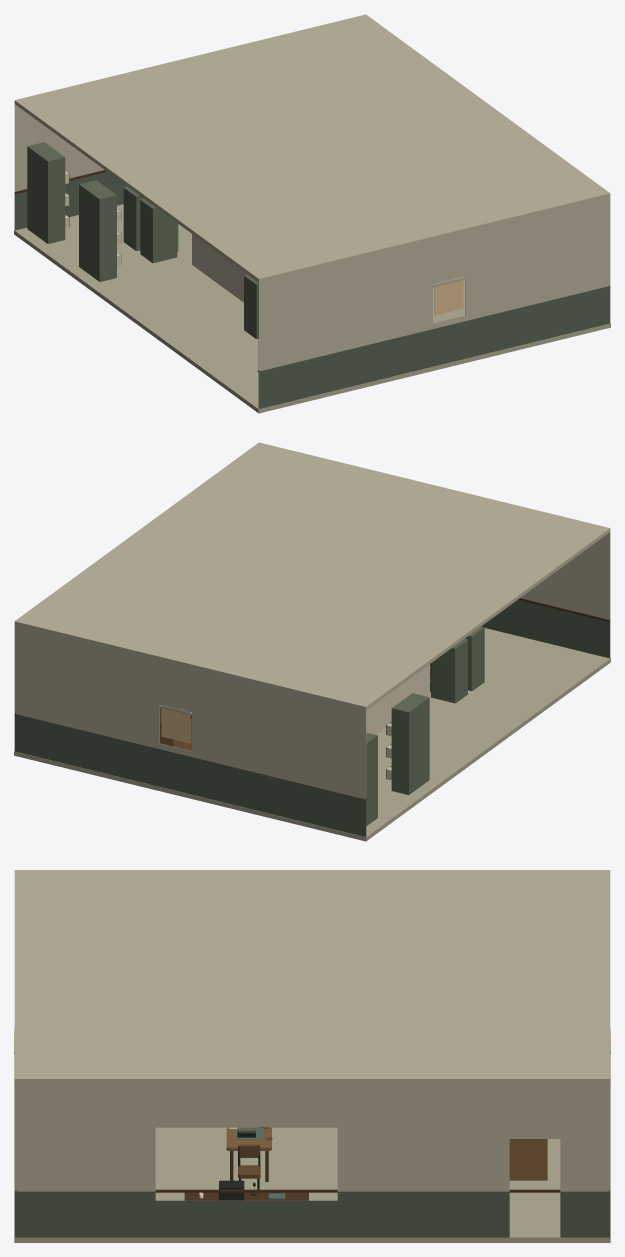
The model's file is SM_Town_Sheriff_Interior.fbx.
The picture shows the model from 3 angles, top to bottom: view 1: azimuth 30°, elevation 25°; view 2: azimuth 150°, elevation 25°; view 3: azimuth 270°, elevation 25°; orthographic projection. The views are drawn at different scales.
Parts seen in each view (by area): view 1: SM_Town_Sheriff_Interior; view 2: SM_Town_Sheriff_Interior; view 3: SM_Town_Sheriff_Interior.
Part boxes in pixels (x1,y1,x2,y2): SM_Town_Sheriff_Interior: (14,14,610,413); SM_Town_Sheriff_Interior: (14,442,610,841); SM_Town_Sheriff_Interior: (14,870,610,1242).
Size of the model in its own units: 9.8 by 11.81 by 3.57.
